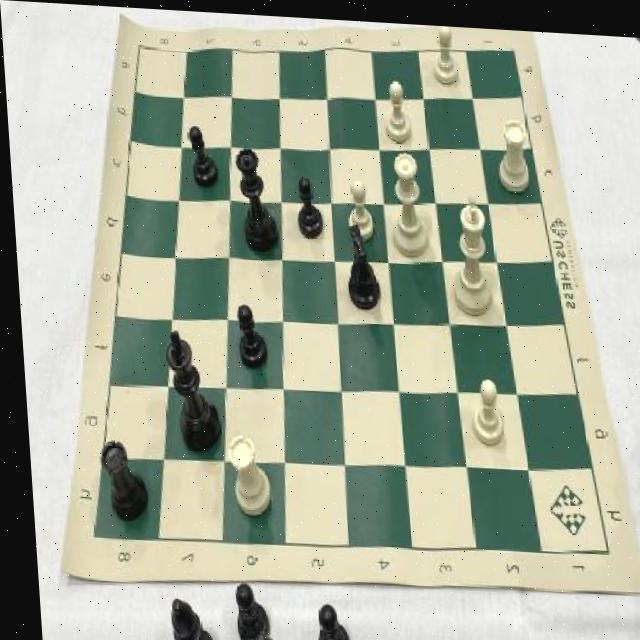black-bishop: (156, 321, 219, 459)
black-king: (335, 220, 386, 313)
black-knight: (229, 296, 265, 371), (289, 170, 326, 241), (184, 118, 217, 187)
black-pawn: (231, 141, 281, 253)
black-queen: (96, 436, 146, 525)
white-bishop: (442, 182, 494, 316)
white-knight: (462, 367, 507, 449), (340, 169, 379, 241), (379, 70, 415, 140), (429, 20, 463, 86)
white-pawn: (383, 141, 431, 260)
white-queen: (218, 423, 270, 524), (491, 109, 535, 193)
